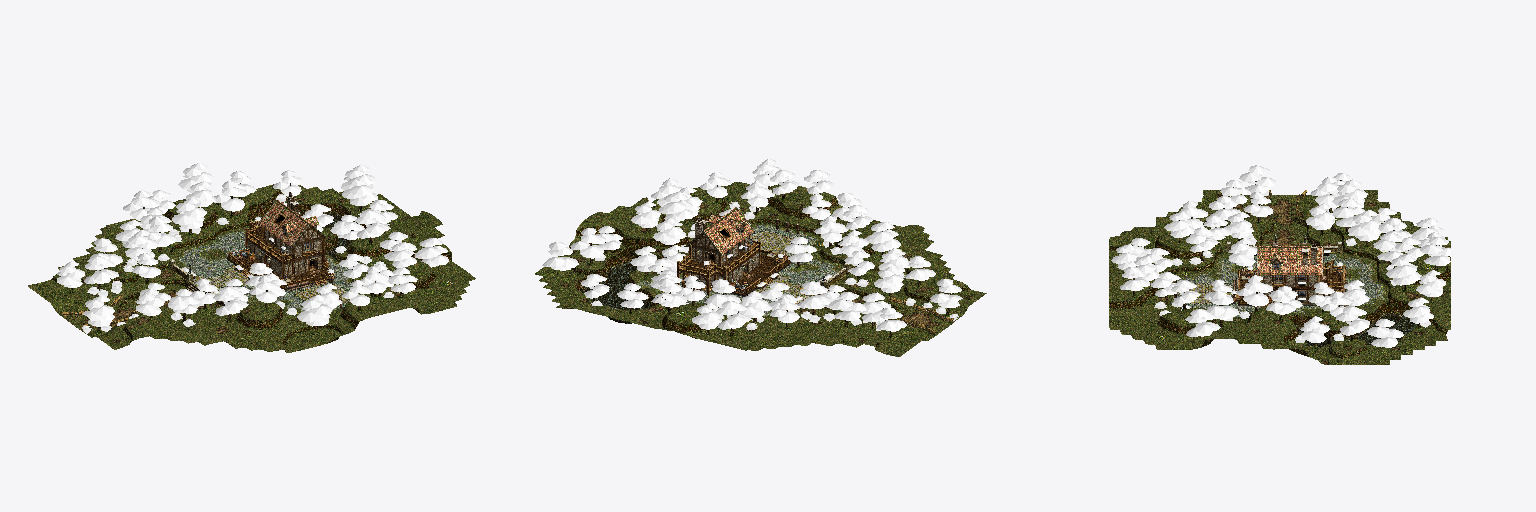
3 renders of one model, left to right at view 1: azimuth 30°, elevation 25°; view 2: azimuth 150°, elevation 25°; view 3: azimuth 270°, elevation 25°, orthographic.
Visible parts, largest first — view 1: Object.1; view 2: Object.1; view 3: Object.1.
Part boxes in pixels (x1,y1,x2,y2): Object.1: (28,162,475,352); Object.1: (535,159,986,356); Object.1: (1109,165,1450,364).
Size of the model in its own units: 71.19 by 14.44 by 58.63.
24 materials, 22 textured.